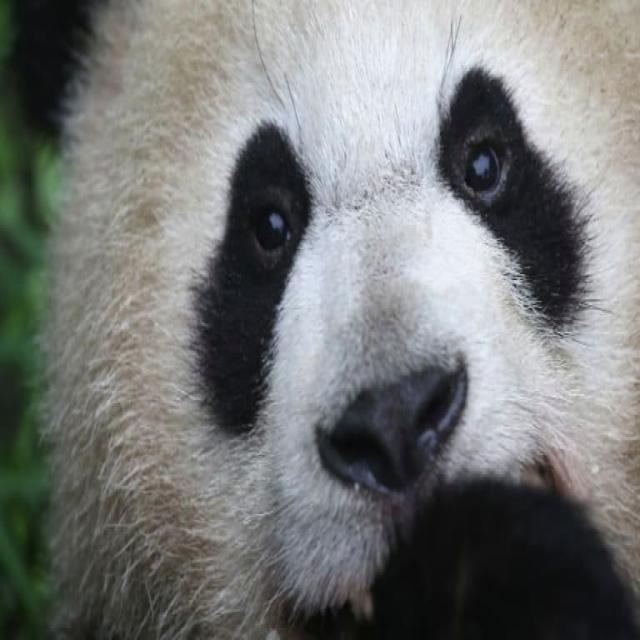panda: (14, 0, 640, 639)
